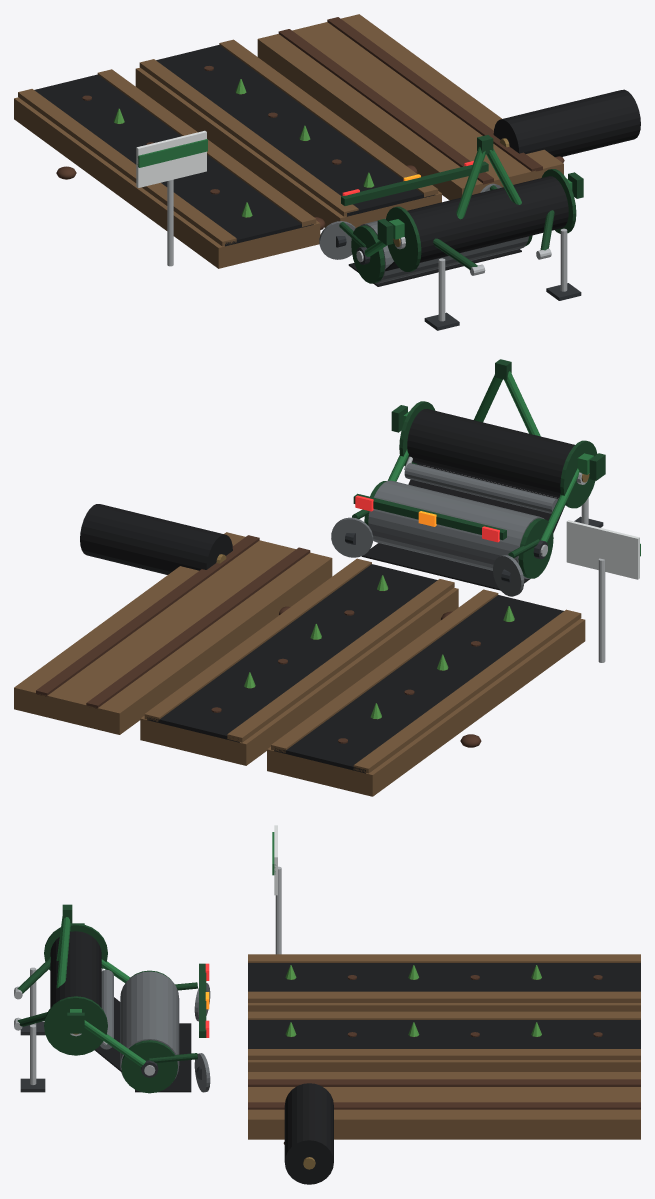
File: mulcher.glb
3 renders of one model, top to bottom at view 1: azimuth 30°, elevation 25°; view 2: azimuth 150°, elevation 25°; view 3: azimuth 270°, elevation 25°, orthographic. The views are drawn at different scales.
Visible parts, largest first — view 1: MulchFieldProps, FilmRoll, MulcherFrame, PressRoller; view 2: MulchFieldProps, MulcherFrame, FilmRoll, PressRoller; view 3: MulchFieldProps, MulcherFrame, PressRoller, FilmRoll.
Part boxes in pixels (x1,y1,x2,y2): MulchFieldProps: [14, 14, 640, 268]; FilmRoll: [385, 169, 576, 271]; MulcherFrame: [319, 135, 583, 330]; PressRoller: [351, 218, 532, 283]; MulchFieldProps: [14, 504, 640, 796]; MulcherFrame: [331, 359, 605, 596]; FilmRoll: [399, 401, 597, 508]; PressRoller: [364, 480, 553, 578]; MulchFieldProps: [248, 825, 640, 1184]; MulcherFrame: [14, 904, 210, 1092]; PressRoller: [120, 970, 179, 1093]; FilmRoll: [44, 923, 107, 1055].
Size of the model in its own units: 4.62 by 1.36 by 5.11.
